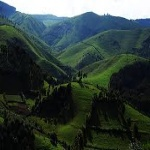Forest: (3, 42, 42, 93), (36, 86, 75, 124), (114, 66, 150, 100), (5, 116, 34, 145)
Uncultivated: (2, 18, 150, 145)
